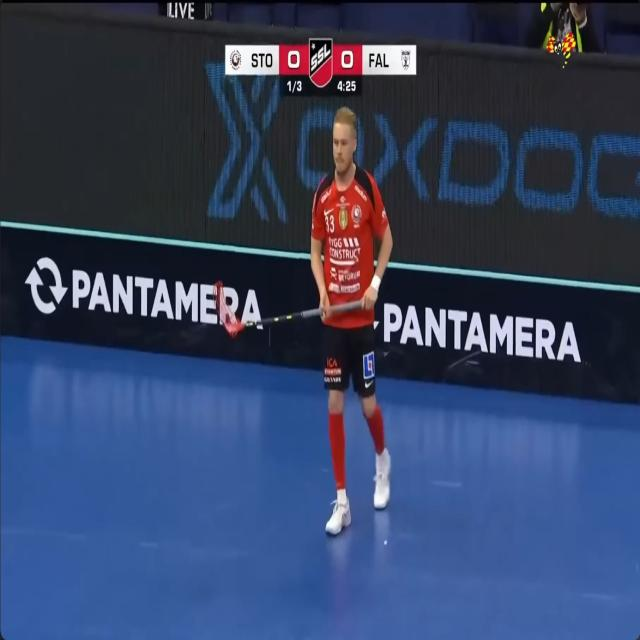player: (311, 108, 392, 534)
